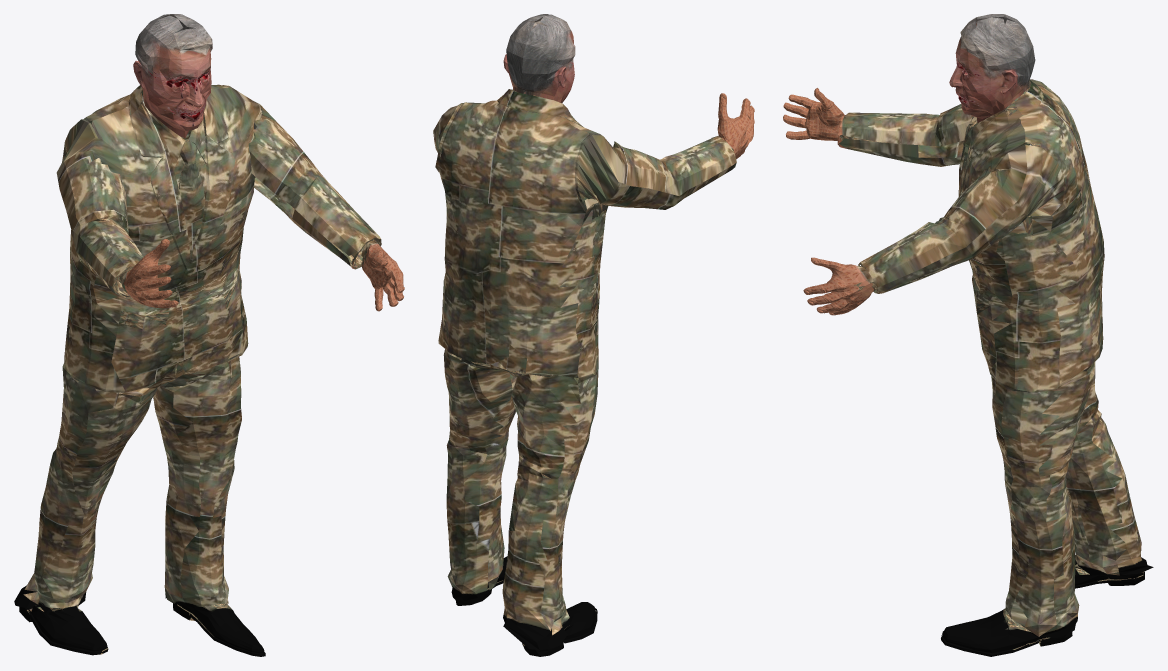
The model's file is zombie_000045.obj.
3 renders of one model, left to right at view 1: azimuth 30°, elevation 25°; view 2: azimuth 150°, elevation 25°; view 3: azimuth 270°, elevation 25°, orthographic. The views are drawn at different scales.
Visible parts, largest first — view 1: Suit_coat_orig_9___De, objGeo_Hea_orig_9___D; view 2: Suit_coat_orig_9___De, objGeo_Hea_orig_9___D; view 3: Suit_coat_orig_9___De, objGeo_Hea_orig_9___D.
Part boxes in pixels (x1,y1,x2,y2): Suit_coat_orig_9___De: [14, 84, 404, 656]; objGeo_Hea_orig_9___D: [133, 14, 212, 137]; Suit_coat_orig_9___De: [433, 89, 754, 656]; objGeo_Hea_orig_9___D: [503, 14, 575, 102]; Suit_coat_orig_9___De: [783, 79, 1153, 656]; objGeo_Hea_orig_9___D: [949, 14, 1035, 122].
Size of the model in its own units: 0.8671 by 1.88 by 1.05.
